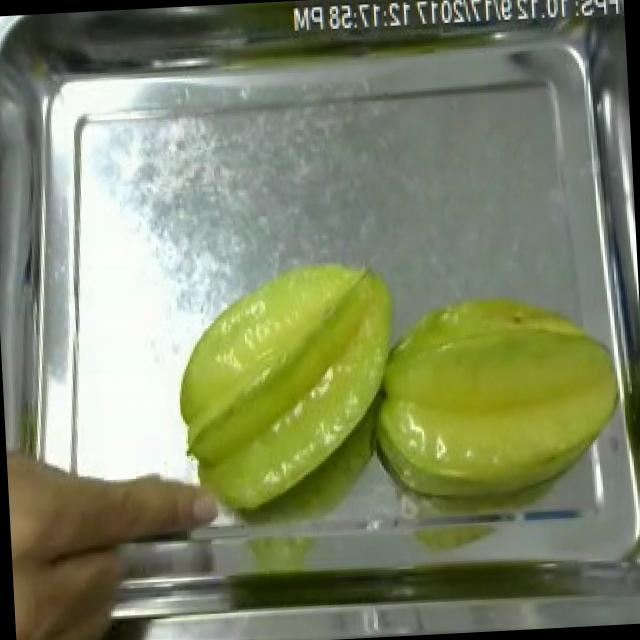fruit: (163, 251, 422, 524), (352, 280, 634, 524), (6, 432, 125, 640)
